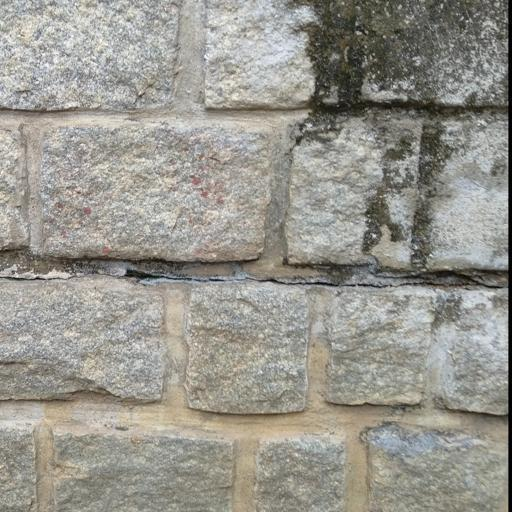major_crack: (0, 227, 509, 325)
